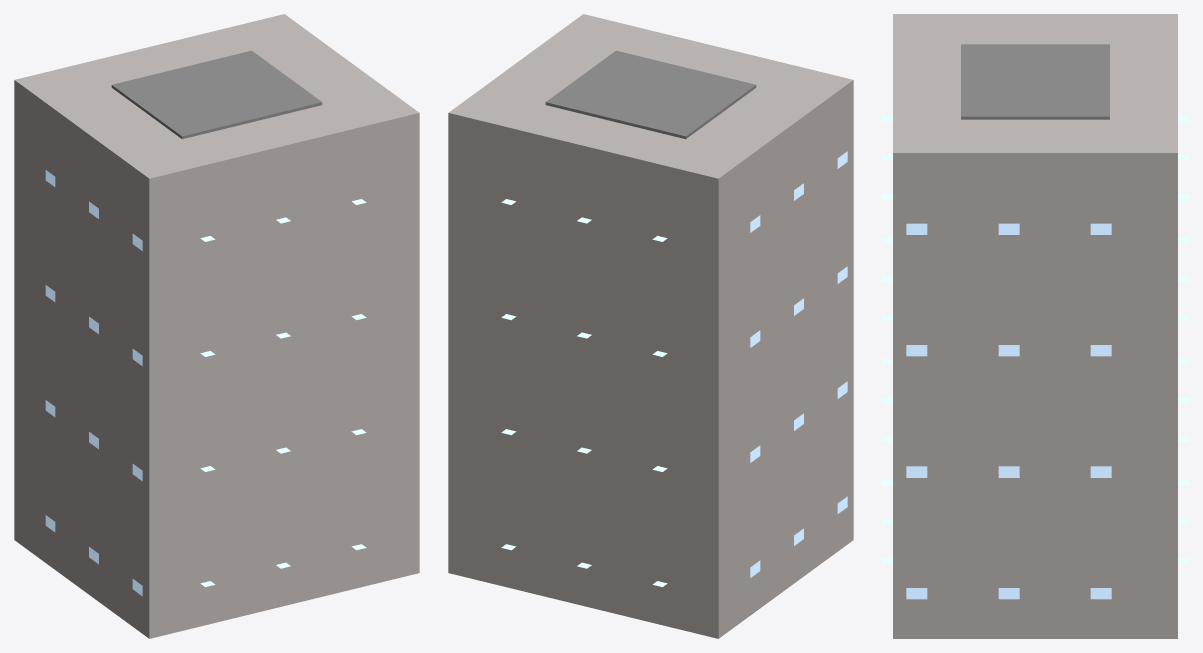
File: residential_4.glb
3 views of the same model, side by side, from view 1: azimuth 30°, elevation 25°; view 2: azimuth 150°, elevation 25°; view 3: azimuth 270°, elevation 25° (orthographic). The views are drawn at different scales.
Parts seen in each view (by area): view 1: residential_4_body, residential_4_roof; view 2: residential_4_body, residential_4_roof; view 3: residential_4_body, residential_4_roof.
Part boxes in pixels (box(x1,y1,x2,y2)): residential_4_body: box(14, 14, 419, 638); residential_4_roof: box(111, 50, 322, 139); residential_4_body: box(448, 14, 853, 638); residential_4_roof: box(545, 50, 756, 139); residential_4_body: box(893, 14, 1177, 638); residential_4_roof: box(961, 44, 1109, 119).
Size of the model in its own units: 7.88 by 12.93 by 7.33.
